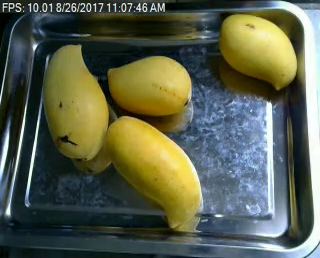Mango: (104, 115, 207, 233), (37, 38, 110, 164), (212, 12, 303, 90), (101, 52, 194, 119)
